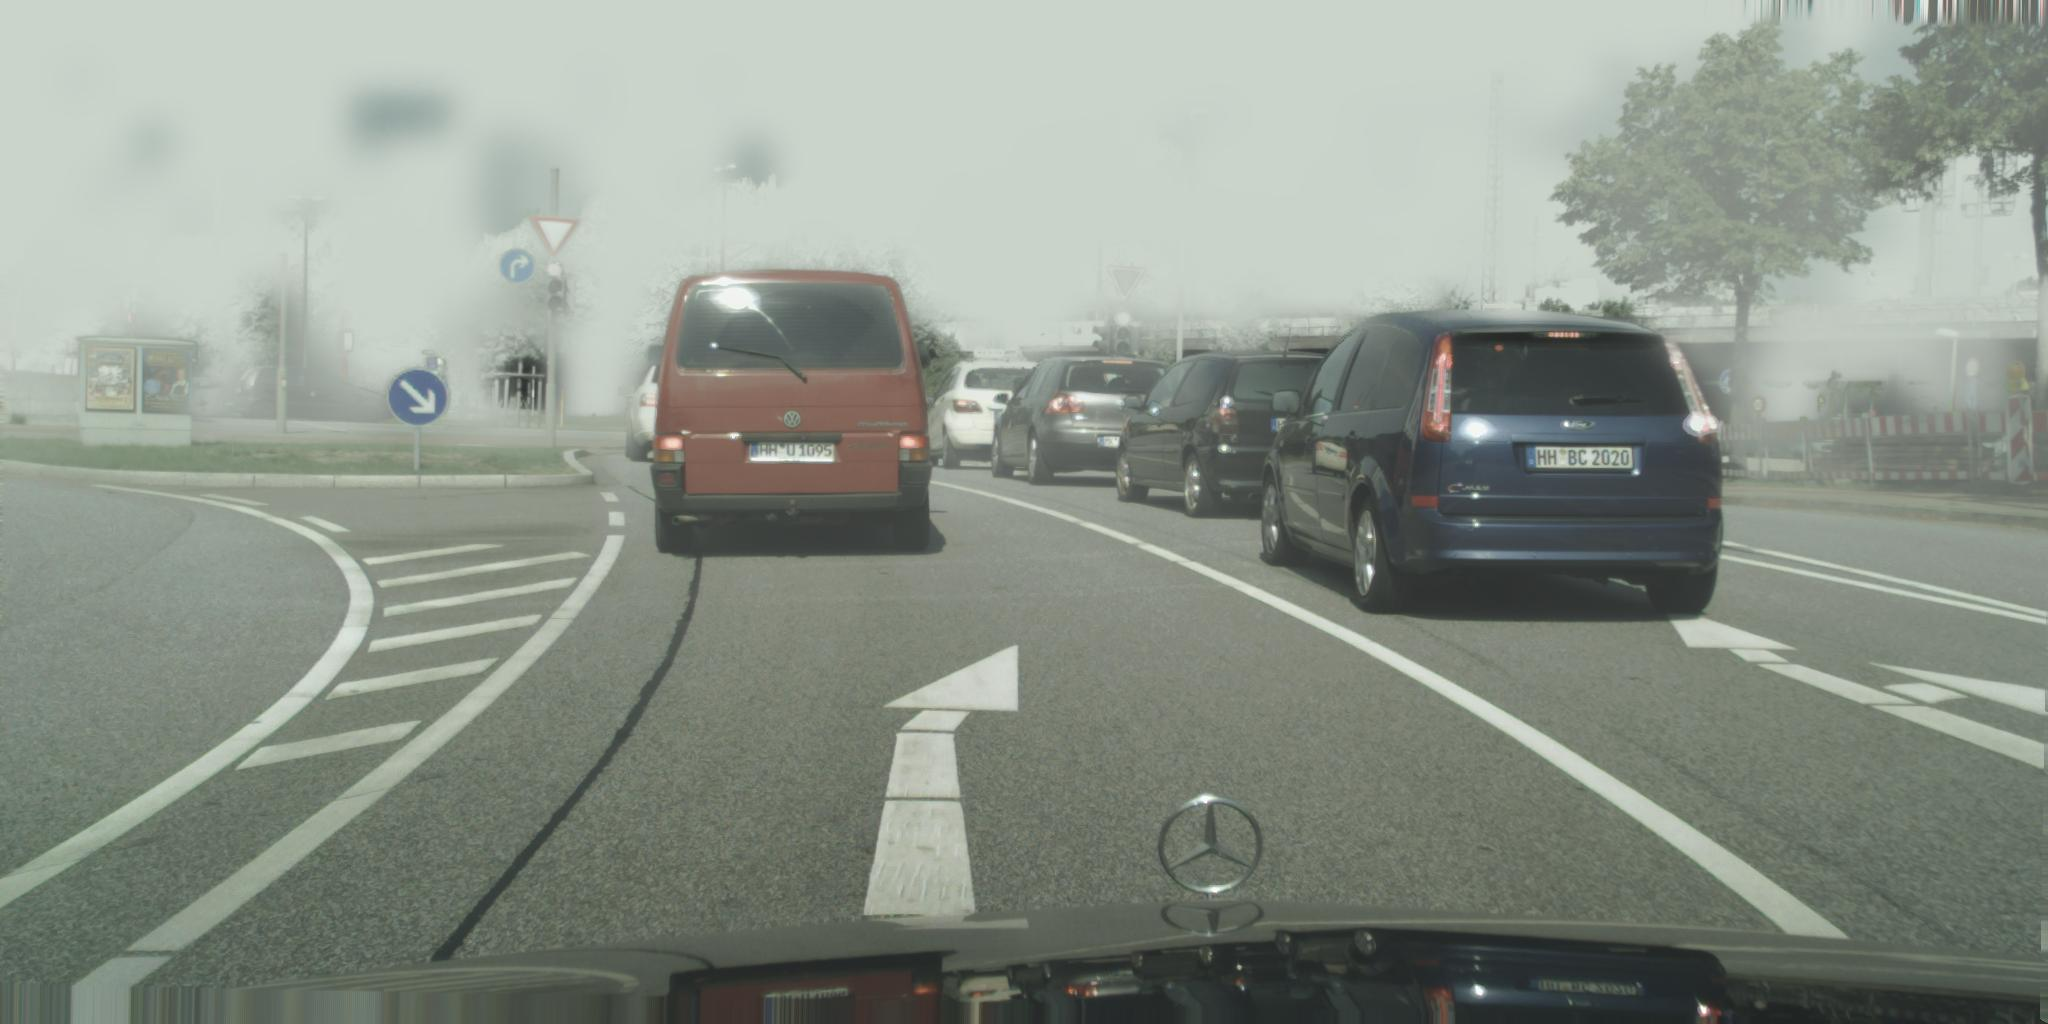car: (1260, 310, 1724, 613), (647, 270, 935, 552), (1117, 350, 1368, 517), (993, 357, 1192, 485), (913, 350, 1067, 468), (235, 366, 402, 424), (620, 362, 673, 462), (216, 381, 266, 419), (176, 377, 229, 411), (182, 387, 234, 418), (61, 353, 95, 394)
